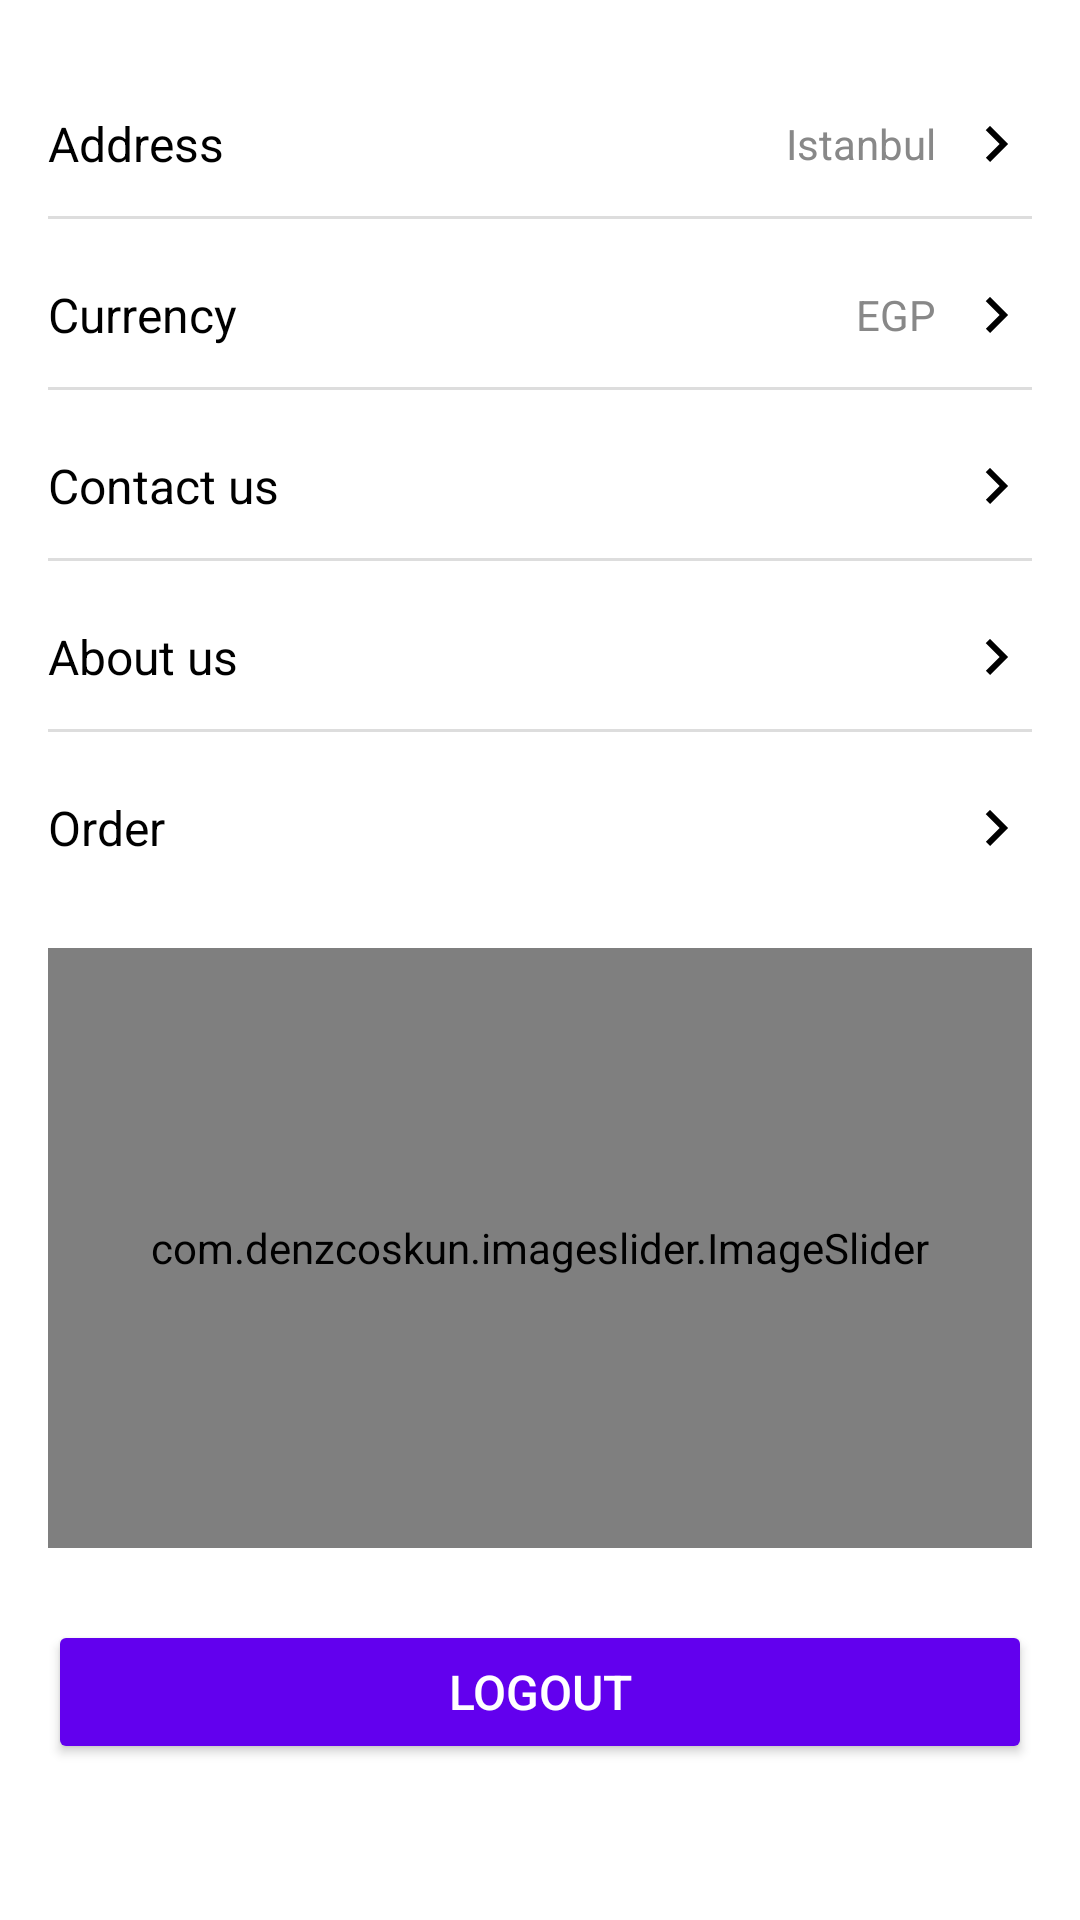

Icons on this 1080px×1920px Android screen, each with its box as (x1, y1, x2, y2):
Arrow Icon: (986, 126, 1008, 162), (986, 297, 1008, 333), (986, 468, 1008, 504), (986, 639, 1008, 675), (986, 810, 1008, 846)
